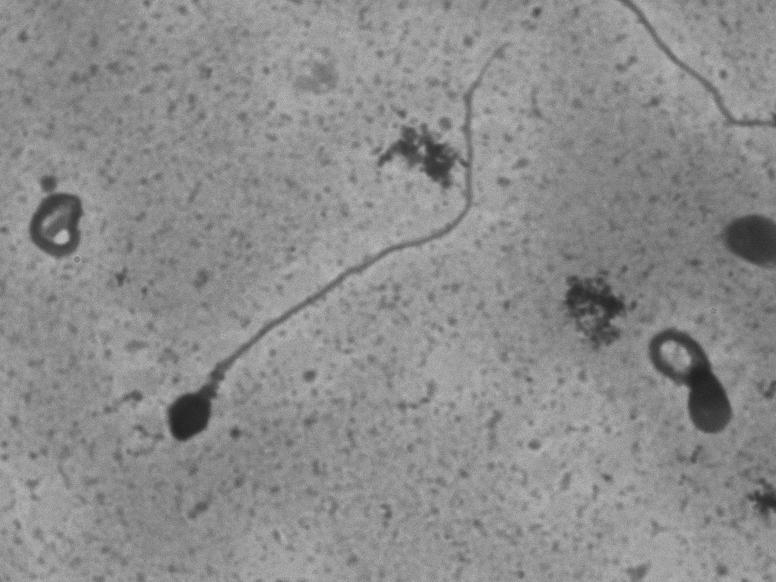Abnormal: (150, 89, 493, 453), (635, 284, 756, 461)
